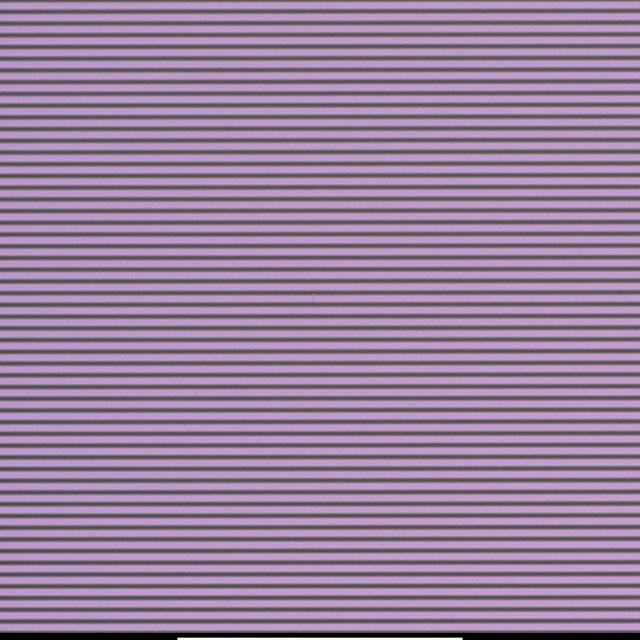03_intrusion: (307, 288, 315, 306)
